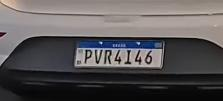Placa_mercosul_carro: (74, 40, 165, 69)
